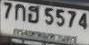letters: (15, 4, 26, 21), (28, 6, 39, 23), (45, 7, 54, 25), (56, 9, 65, 26), (68, 11, 77, 27), (4, 2, 12, 19), (79, 13, 87, 29)
province: (13, 28, 77, 43)
